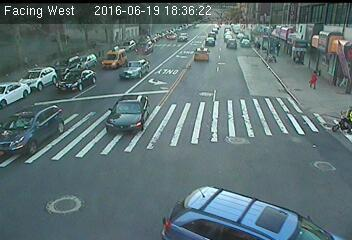neg: (330, 99, 351, 133), (174, 160, 188, 179), (160, 91, 171, 107), (214, 104, 224, 117), (121, 103, 131, 116)
pos: (307, 67, 322, 86)
